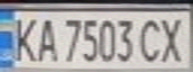0: (97, 16, 118, 63)
3: (115, 16, 139, 63)
5: (78, 16, 100, 63)
7: (57, 15, 81, 63)
A: (33, 15, 60, 63)
C: (136, 15, 166, 63)
K: (6, 14, 39, 63)
X: (154, 14, 190, 63)
